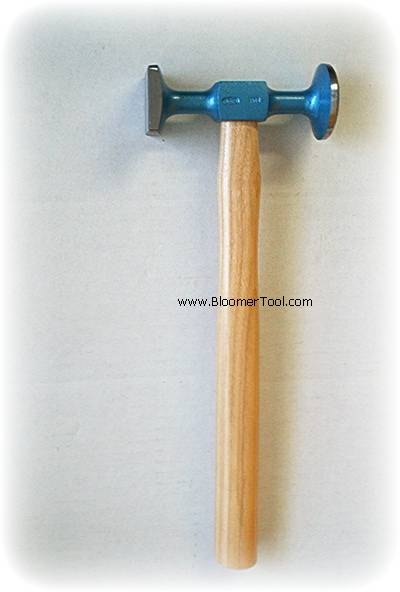hammer: (138, 54, 346, 576)
